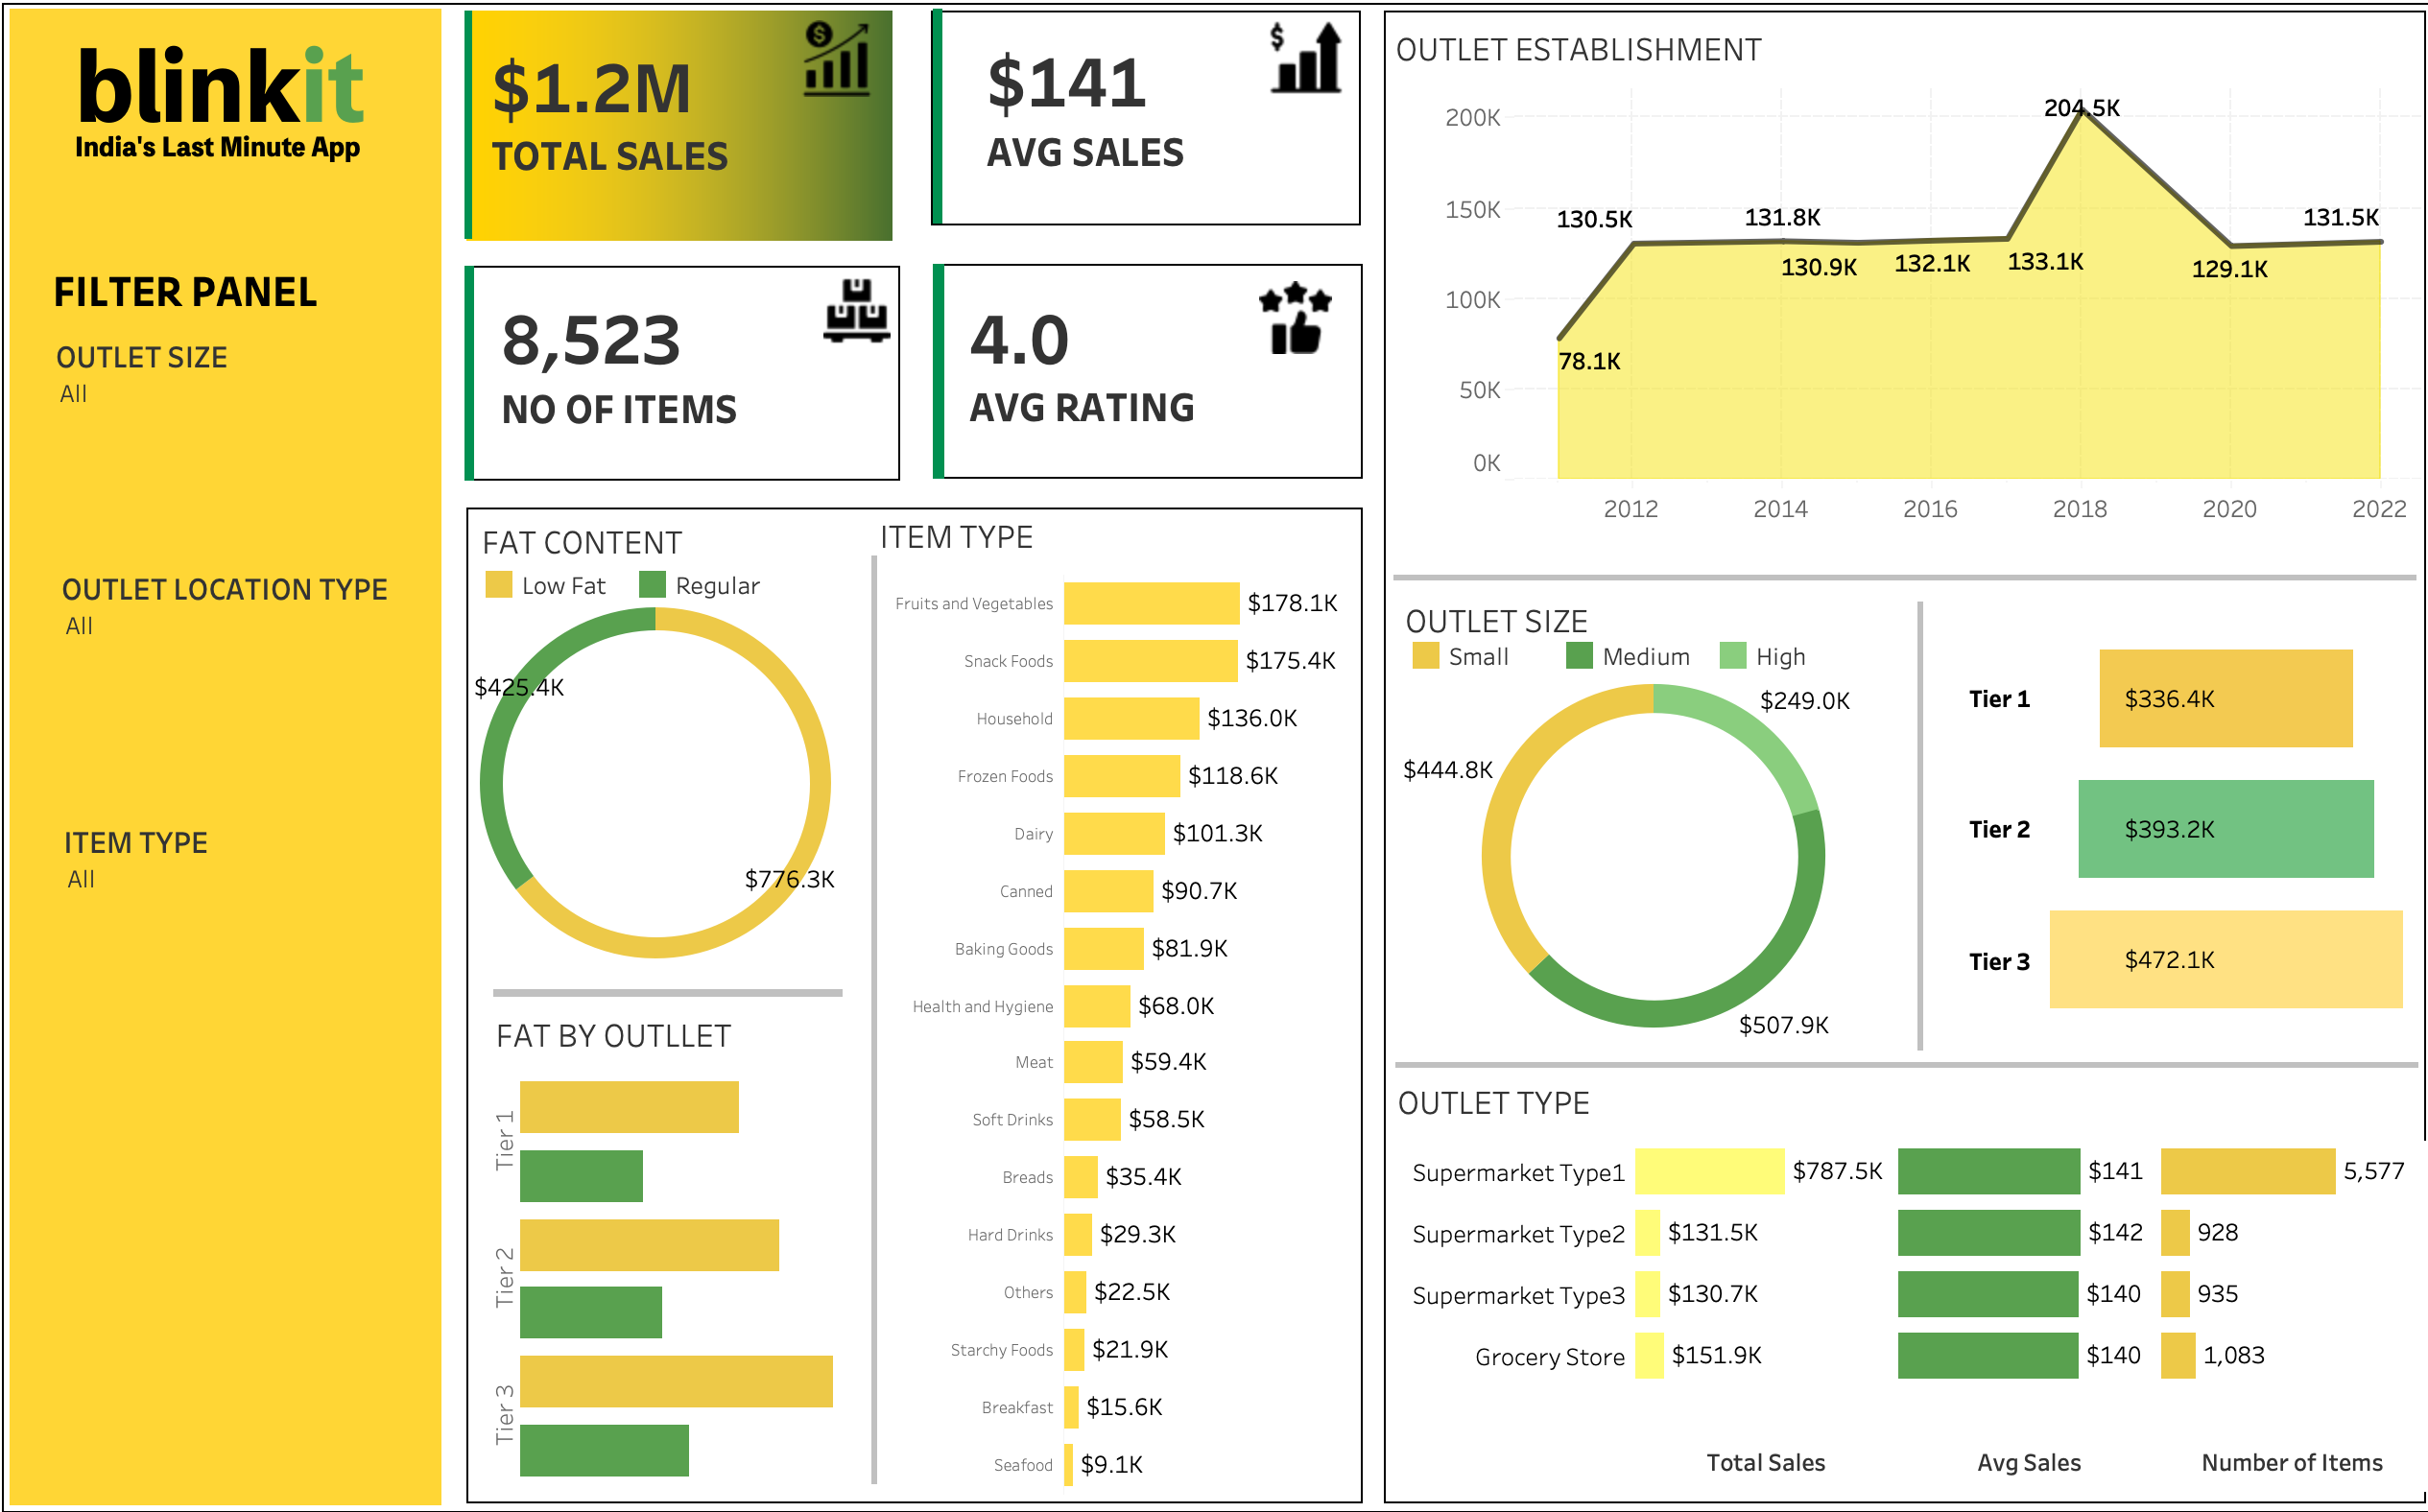

The page's visual inventory and layout, read from the dashboard file:
{"tool":"tableau","page":{"name":"Dashboard 1","canvas":[1500,800],"ordinal":0},"visuals":[{"type":"blank","box":[15,5,1266,787]},{"type":"blank","box":[19,8,225,780]},{"type":"blank","box":[500.4,8,4.3,112]},{"type":"blank","box":[256,9,4,119]},{"type":"image","param":"Image/background kpi.png","box":[257.1,9,223.9,120]},{"type":"blank","box":[499.3,9,223.9,112]},{"type":"text","box":[42.9,11,171.4,76]},{"type":"worksheet","title":"OUTLET ESTABLISHMENT","mark":"Area","rows":["Sales","Sales"],"cols":["Outlet Establishment Year"],"box":[737.1,11,540,272]},{"type":"image","param":"Image/Sales.png","box":[429.6,14,48.2,40]},{"type":"image","param":"Image/Avg Sales.png","box":[675,14,42.9,39]},{"type":"worksheet","title":"avg blikit","mark":"Automatic","box":[523.9,15,195,88]},{"type":"worksheet","title":"Blinkit","mark":"Automatic","box":[265.7,19,161.8,85]},{"type":"text","box":[41.8,71,171.4,19]},{"type":"text","box":[39,140,166,30]},{"type":"blank","box":[500.4,141,223.9,112]},{"type":"blank","box":[500.4,141,5.4,112]},{"type":"blank","box":[256.1,142,5.4,112]},{"type":"blank","box":[259.3,142,223.9,112]},{"type":"image","param":"Image/Items.png","box":[442.5,148,35.4,41]},{"type":"image","param":"Image/rating (1).png","box":[669.6,150,45,38]},{"type":"worksheet","title":"number of items","mark":"Automatic","box":[271.1,151,161.8,84]},{"type":"worksheet","title":"avg ratinh","mark":"Automatic","box":[515.4,151,161.8,83]},{"type":"filter","title":"OUTLET SIZE","param":"[federated.0vnebj81jv0r131esqqb802qypfd].[none:Outlet Size:nk]","box":[43,178,182,51]},{"type":"worksheet","title":"ITEM TYPE","mark":"Automatic","rows":["Item Type"],"cols":["Sales"],"box":[468,265,253,518]},{"type":"worksheet","title":"FAT CONTENT","mark":"Pie","cols":["Calculation_102175453961224208","Calculation_102175453961224208"],"box":[261.4,268,188.6,249]},{"type":"blank","box":[468,293,3,484]},{"type":"legend","title":"FAT CONTENT","param":"[federated.0vnebj81jv0r131esqqb802qypfd].[none:Calculation_2606106477415550979:n","box":[263.6,298,183.2,26]},{"type":"filter","title":"TIER WISE","param":"[federated.0vnebj81jv0r131esqqb802qypfd].[none:Outlet Location Type:nk]","box":[46,299,180,60]},{"type":"blank","box":[740,303,533,3]},{"type":"worksheet","title":"OUTLET SIZE","mark":"Pie","cols":["Calculation_102175453945167886","Calculation_102175453945167886"],"box":[742,309,267,243]},{"type":"blank","box":[1013,317,3,234]},{"type":"worksheet","title":"TIER WISE","mark":"Bar","rows":["Outlet Location Type"],"cols":["Calculation_102175454061125651","Sales"],"box":[997,333,274,205]},{"type":"legend","title":"OUTLET SIZE","param":"[federated.0vnebj81jv0r131esqqb802qypfd].[none:Outlet Size:nk]","box":[747,335,310,26]},{"type":"filter","title":"ITEM TYPE","param":"[federated.0vnebj81jv0r131esqqb802qypfd].[none:Item Type:nk]","box":[47,431,176,75]},{"type":"blank","box":[271,519,182,4]},{"type":"worksheet","title":"FAT BY OUTLLET","mark":"Automatic","rows":["Outlet Location Type","Calculation_2606106477415550979"],"cols":["Sales"],"box":[265,525,191,252]},{"type":"blank","box":[741,557,533,3]},{"type":"worksheet","title":"OUTLET TYPE","mark":"Automatic","rows":["Outlet Type"],"cols":["Sales","Sales","Sales"],"box":[738,560,539,221]}]}

Visuals, with their boxes on the page's 1500x800 design canvas (x1, y1, x2, y2). These are canvas units, not pixel positions in the 2428x1512 screenshot, which may show the page scaled, cropped or inside an application window:
blank: 15, 5, 1281, 792
blank: 19, 8, 244, 788
blank: 500, 8, 505, 120
blank: 256, 9, 260, 128
image: 257, 9, 481, 129
blank: 499, 9, 723, 121
text: 43, 11, 214, 87
"OUTLET ESTABLISHMENT" worksheet (Area marks): 737, 11, 1277, 283
image: 430, 14, 478, 54
image: 675, 14, 718, 53
"avg blikit" worksheet: 524, 15, 719, 103
"Blinkit" worksheet: 266, 19, 428, 104
text: 42, 71, 213, 90
text: 39, 140, 205, 170
blank: 500, 141, 724, 253
blank: 500, 141, 506, 253
blank: 256, 142, 262, 254
blank: 259, 142, 483, 254
image: 442, 148, 478, 189
image: 670, 150, 715, 188
"number of items" worksheet: 271, 151, 433, 235
"avg ratinh" worksheet: 515, 151, 677, 234
"OUTLET SIZE" filter: 43, 178, 225, 229
"ITEM TYPE" worksheet: 468, 265, 721, 783
"FAT CONTENT" worksheet (Pie marks): 261, 268, 450, 517
blank: 468, 293, 471, 777
"FAT CONTENT" legend: 264, 298, 447, 324
"TIER WISE" filter: 46, 299, 226, 359
blank: 740, 303, 1273, 306
"OUTLET SIZE" worksheet (Pie marks): 742, 309, 1009, 552
blank: 1013, 317, 1016, 551
"TIER WISE" worksheet (Bar marks): 997, 333, 1271, 538
"OUTLET SIZE" legend: 747, 335, 1057, 361
"ITEM TYPE" filter: 47, 431, 223, 506
blank: 271, 519, 453, 523
"FAT BY OUTLLET" worksheet: 265, 525, 456, 777
blank: 741, 557, 1274, 560
"OUTLET TYPE" worksheet: 738, 560, 1277, 781
